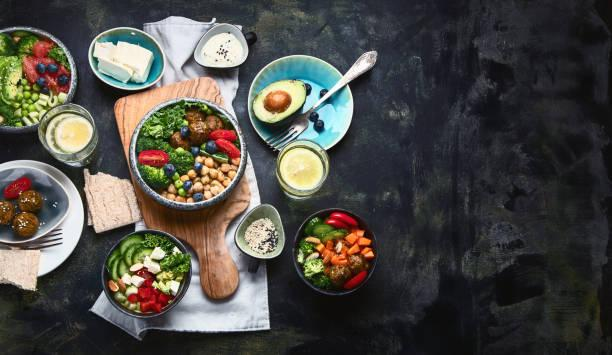Braised Crucian Carp: (128, 95, 244, 210), (247, 53, 351, 151), (0, 158, 83, 273), (0, 24, 78, 132), (101, 229, 191, 319), (291, 208, 376, 295)
